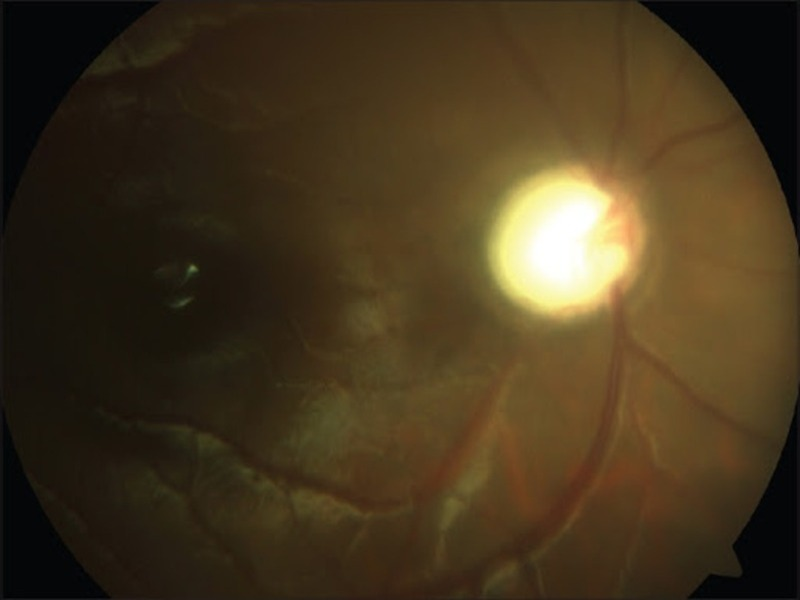Optic Cup: (536, 204, 597, 282)
Optic Disc: (492, 167, 644, 312)
